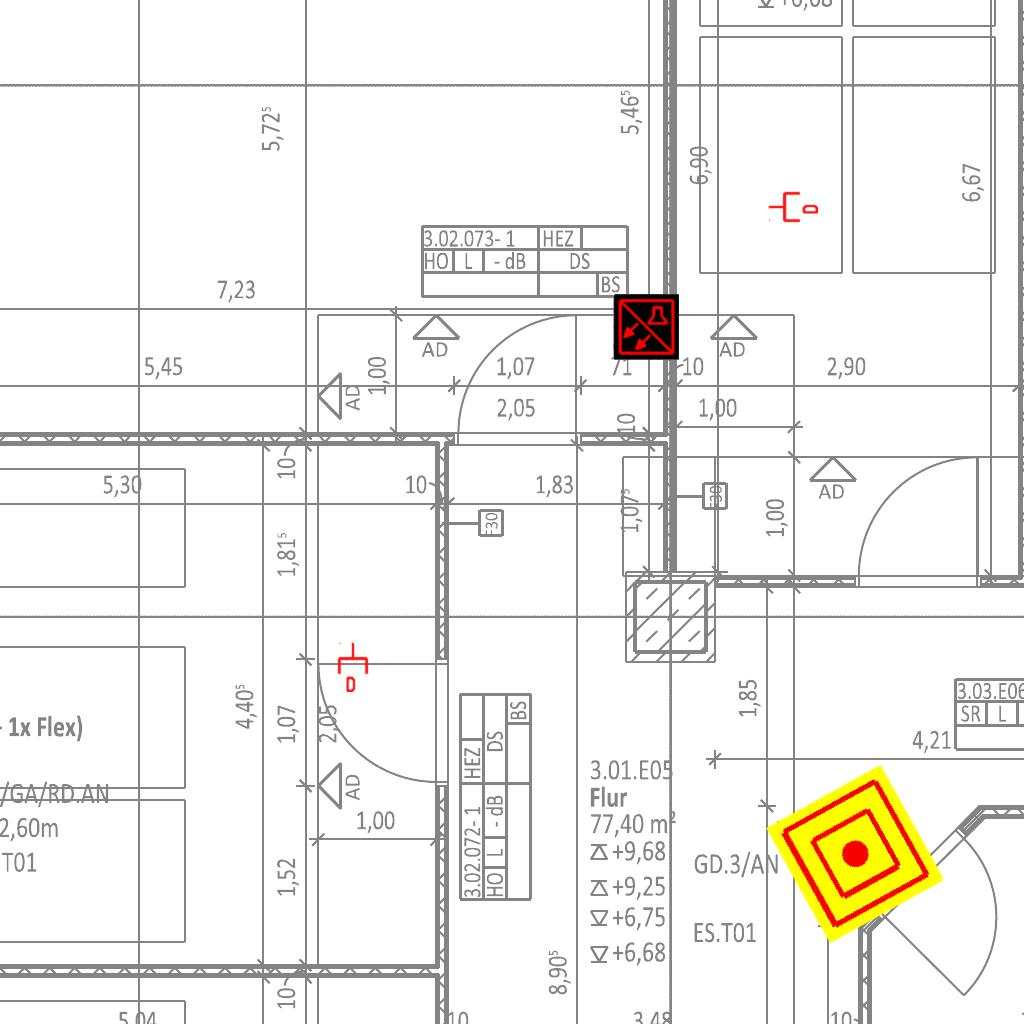Datenanschluss_einfach: (336, 642, 370, 692), (768, 190, 818, 224)
NAM-Nichtautomatischer_Melder: (765, 764, 945, 944)
OKW_Multisensormelder_(Kombination_optischer_Rauch-Kahlenmonoxid_Waerme-Melder): (613, 294, 679, 360)
